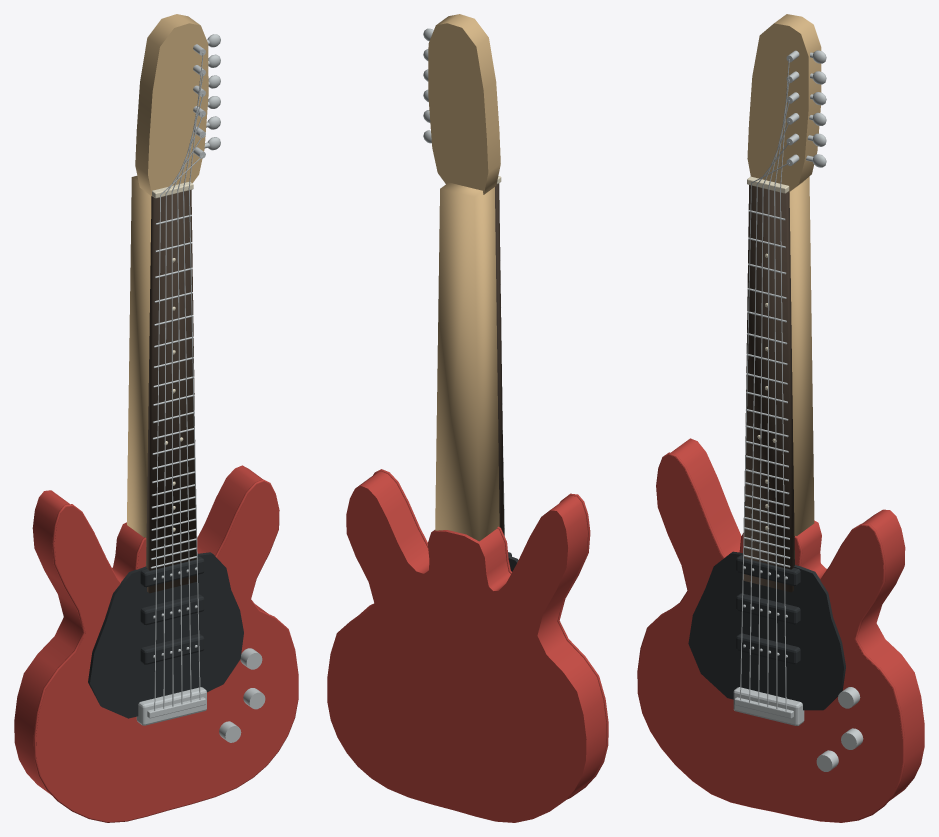
Rendered from guitar_solid_body_electric.glb.
The picture shows the model from 3 angles, left to right: view 1: azimuth 30°, elevation 25°; view 2: azimuth 150°, elevation 25°; view 3: azimuth 330°, elevation 25°; orthographic projection. The views are drawn at different scales.
Parts seen in each view (by area): view 1: ElectricGuitar_Solid_Body, ElectricGuitar_Fingerboard, ElectricGuitar_Plain_Pickguard, ElectricGuitar_Six_Inline_Headstock, ElectricGuitar_Wooden_Neck, ElectricGuitar_Body_Edge_Line, ElectricGuitar_Metal_Bridge, ElectricGuitar_Pickup.001, ElectricGuitar_Pickup, ElectricGuitar_String.003, ElectricGuitar_String.004, ElectricGuitar_String.002 (+4 smaller); view 2: ElectricGuitar_Solid_Body, ElectricGuitar_Wooden_Neck, ElectricGuitar_Six_Inline_Headstock, ElectricGuitar_Fingerboard, ElectricGuitar_Body_Edge_Line; view 3: ElectricGuitar_Solid_Body, ElectricGuitar_Fingerboard, ElectricGuitar_Plain_Pickguard, ElectricGuitar_Six_Inline_Headstock, ElectricGuitar_Wooden_Neck, ElectricGuitar_Body_Edge_Line, ElectricGuitar_Metal_Bridge, ElectricGuitar_Pickup, ElectricGuitar_Pickup.001, ElectricGuitar_String.004, ElectricGuitar_String.003, ElectricGuitar_String.005 (+5 smaller).
Part boxes in pixels (x1,y1,x2,y2): ElectricGuitar_Solid_Body: (14,465,297,821); ElectricGuitar_Fingerboard: (146,190,196,593); ElectricGuitar_Plain_Pickguard: (88,552,243,718); ElectricGuitar_Six_Inline_Headstock: (135,14,208,195); ElectricGuitar_Wooden_Neck: (127,176,151,565); ElectricGuitar_Body_Edge_Line: (33,479,298,822); ElectricGuitar_Metal_Bridge: (136,687,206,725); ElectricGuitar_Pickup.001: (140,594,204,625); ElectricGuitar_Pickup: (140,634,204,664); ElectricGuitar_String.003: (177,94,203,704); ElectricGuitar_String.004: (183,73,203,702); ElectricGuitar_String.002: (171,114,203,706); ElectricGuitar_Solid_Body: (327,471,606,822); ElectricGuitar_Wooden_Neck: (435,182,499,541); ElectricGuitar_Six_Inline_Headstock: (428,14,500,194); ElectricGuitar_Fingerboard: (495,183,504,534); ElectricGuitar_Body_Edge_Line: (360,469,608,799); ElectricGuitar_Solid_Body: (638,438,924,821); ElectricGuitar_Fingerboard: (743,185,794,592); ElectricGuitar_Plain_Pickguard: (688,551,845,710); ElectricGuitar_Six_Inline_Headstock: (747,14,821,191); ElectricGuitar_Wooden_Neck: (789,176,814,558); ElectricGuitar_Body_Edge_Line: (637,452,904,822); ElectricGuitar_Metal_Bridge: (733,687,804,725); ElectricGuitar_Pickup: (736,633,800,664); ElectricGuitar_Pickup.001: (736,593,800,624); ElectricGuitar_String.004: (774,79,789,708); ElectricGuitar_String.003: (767,100,789,706); ElectricGuitar_String.005: (780,59,789,711).
Size of the model in its own units: 0.3497 by 0.9928 by 0.071.
